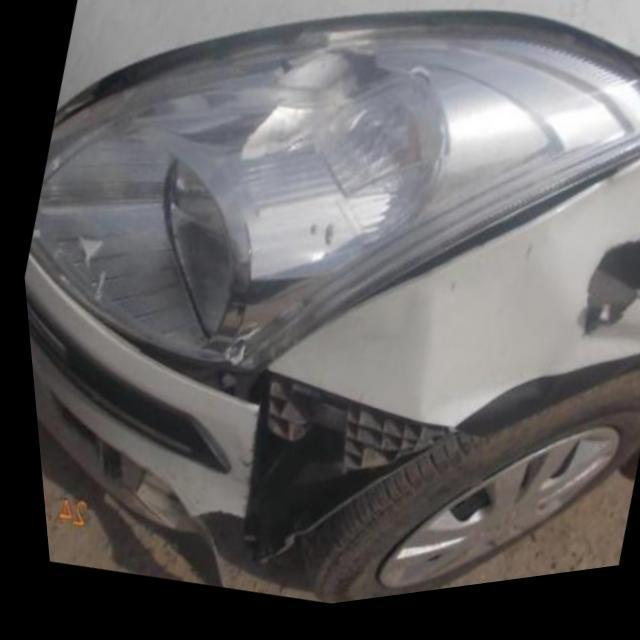crack: (566, 255, 640, 352)
no part: (84, 324, 442, 573)
